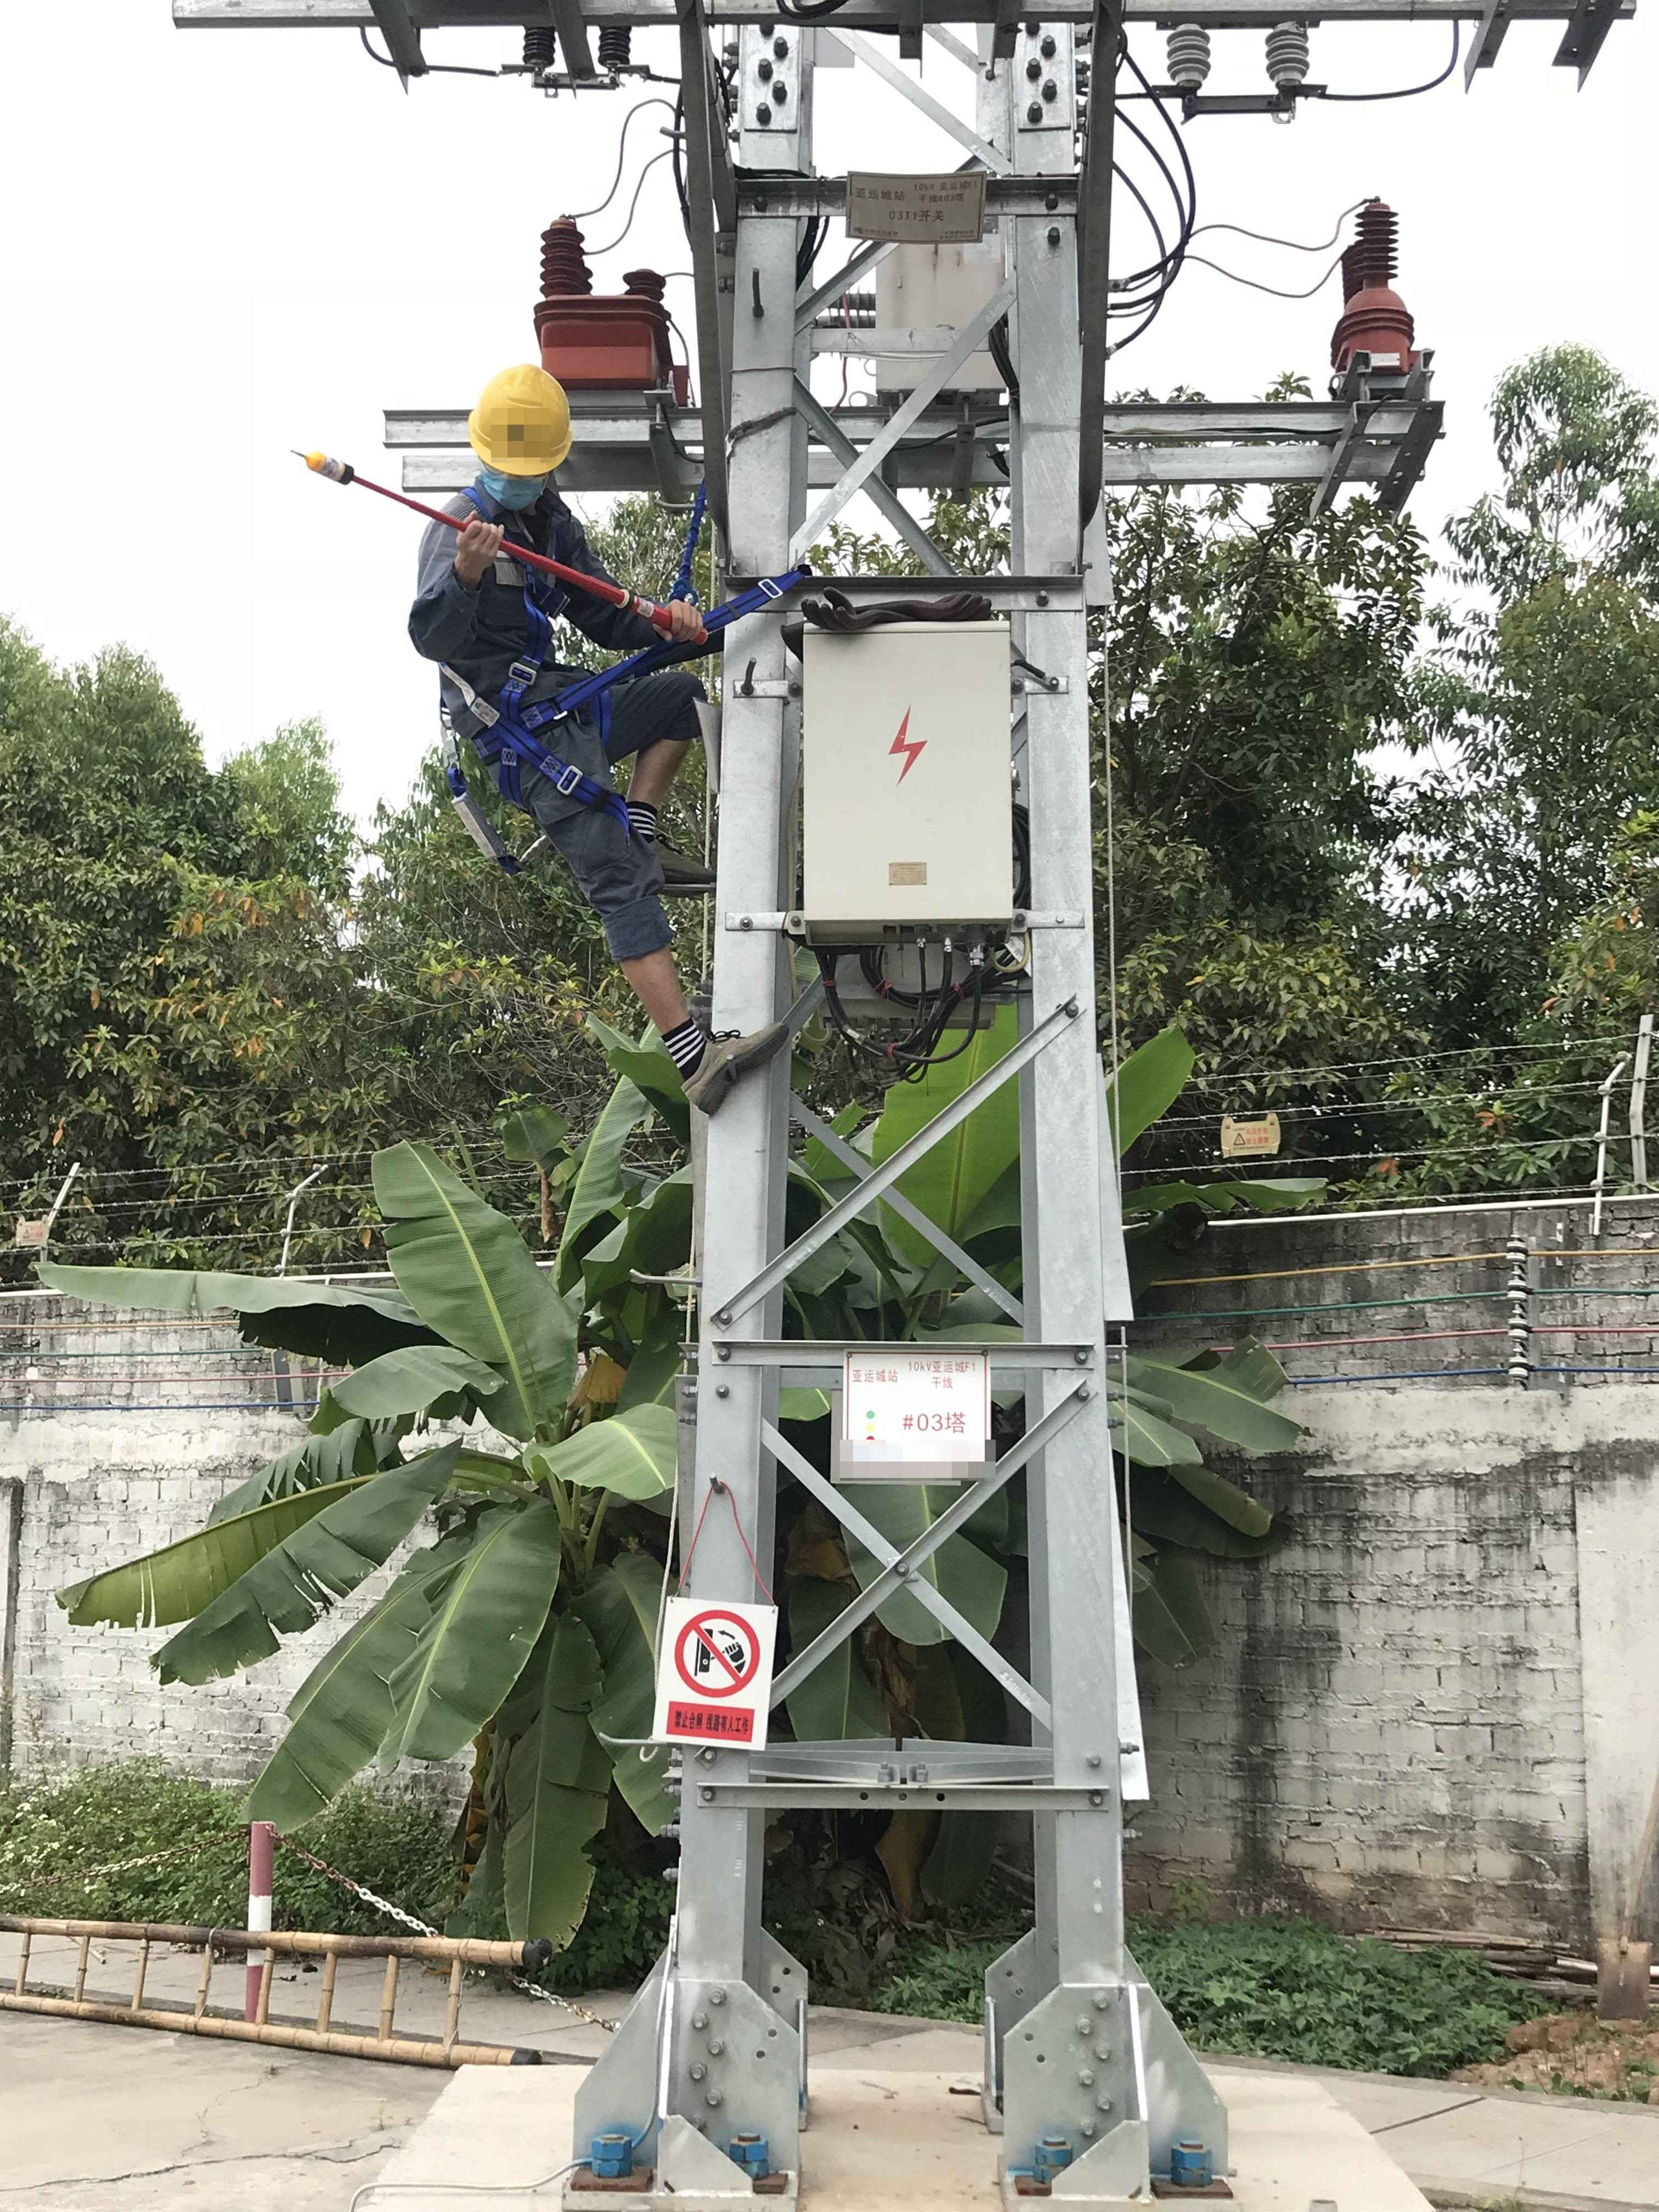downsuit: (481, 664, 706, 949)
upsuit: (408, 489, 634, 688)
wrongbottom: (603, 902, 699, 1049), (626, 705, 706, 822)
